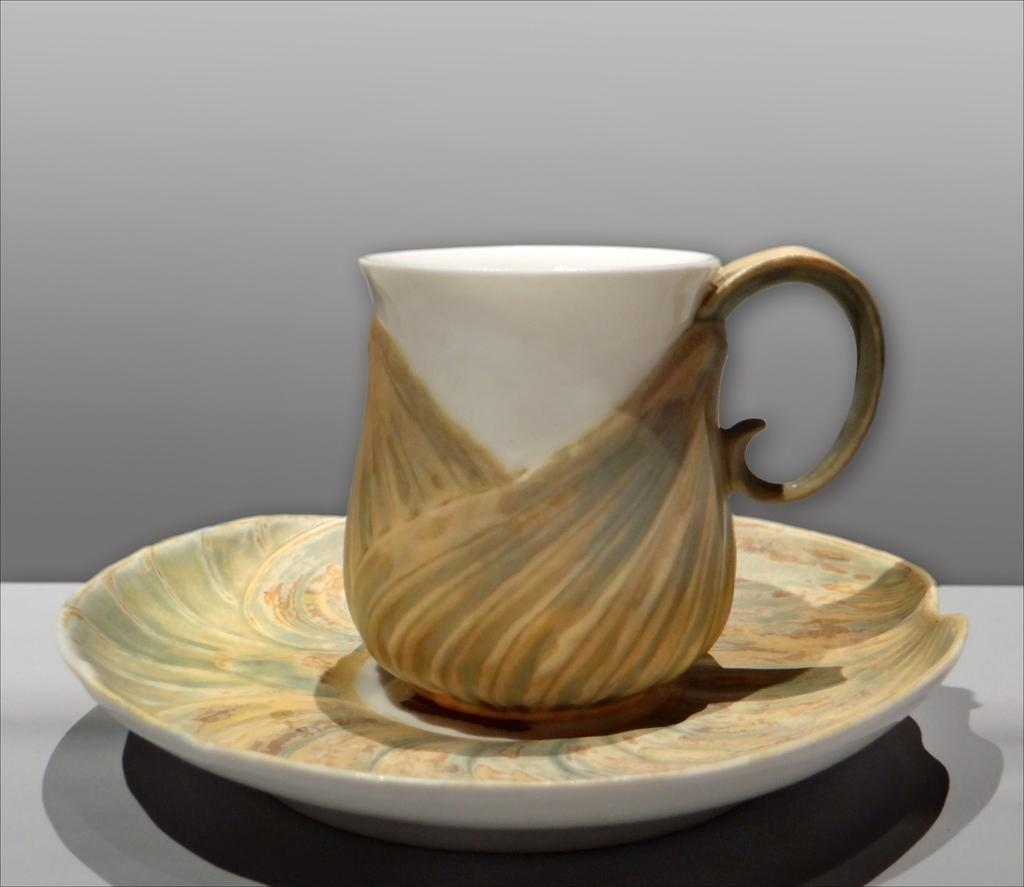cup-handle: (342, 239, 888, 734)
